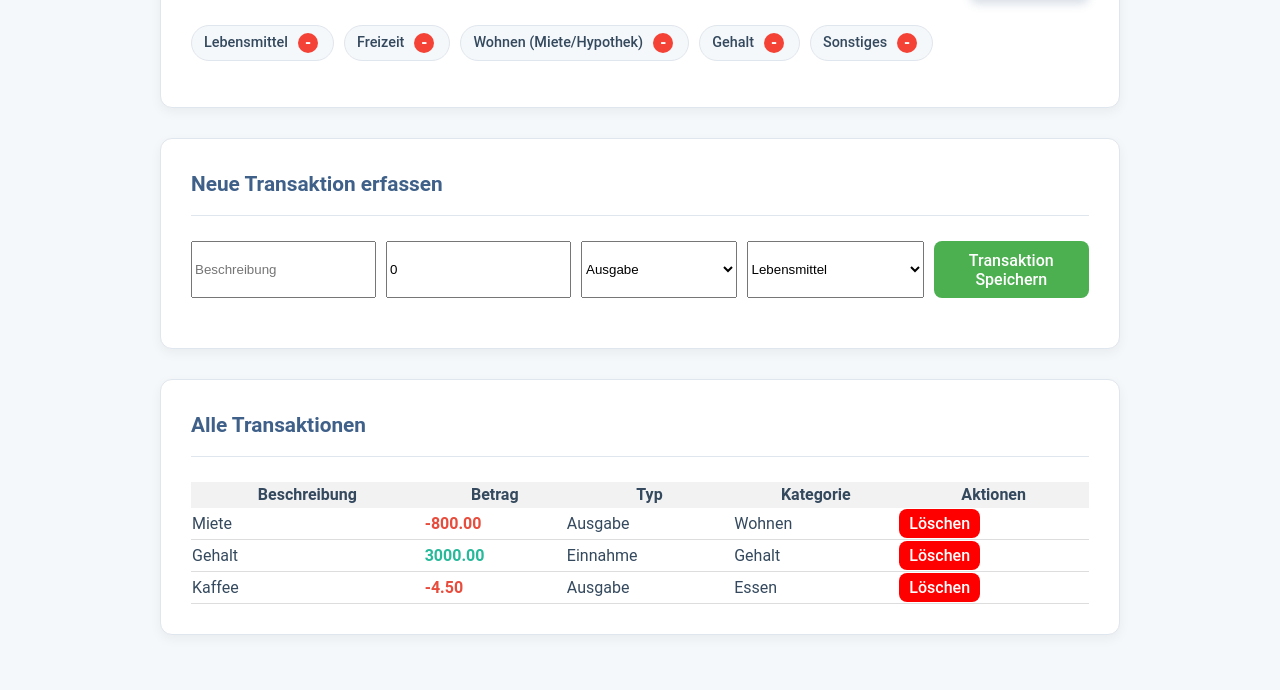
Test: TransactionTracker Component › deletes a transaction and updates the list and balance
(page scrolled)
Expected: the text "Miete" is shown, [191,508,424,540]
# Klicken Sie auf den ersten Lösch-Button (welcher die Miete sein sollte, ID 1)
What coordinates should you click on to do the following:
click the button "Löschen" in the row of "800.00"
I would click on:
 (940, 524)
Its box is [899,509,980,538].
(page scrolled)
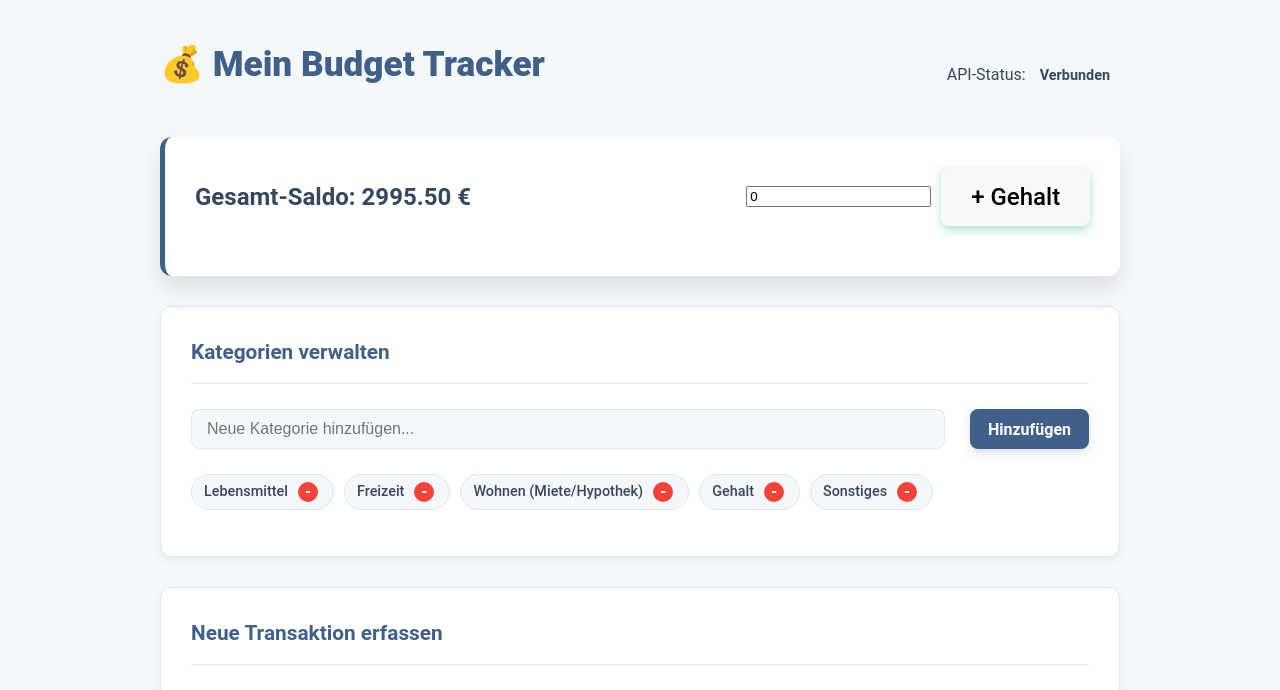
Result: the text "Gesamt-Saldo: 2995.50 €" is shown at [195,179,471,215]
